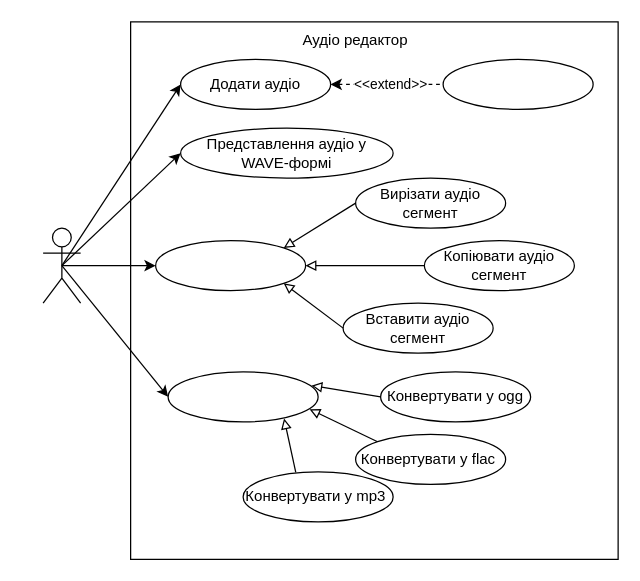
The diagram is 640 pixels wide and 581 high, and some of its shapes have lost their labels. The shapes that lost their labels are listed below. From the top down, each one's box as (x1, y1, x2, y2) in pixels, then its label:
(442, 58, 593, 109): Додати кілька аудіо
(42, 227, 81, 303): Користувач
(154, 239, 306, 291): Редагувати аудіо
(167, 371, 318, 422): Зберегти аудіо сегмент
